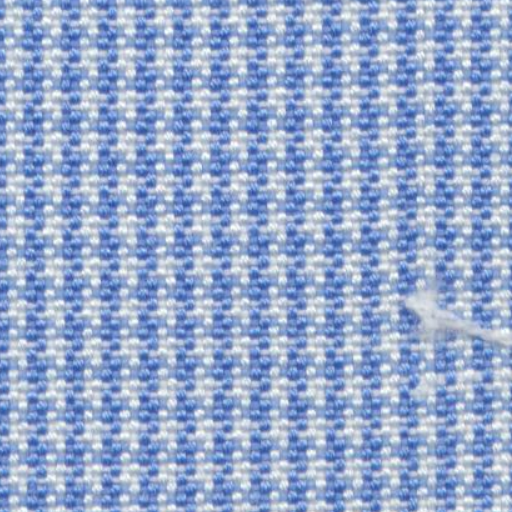DuanSha: (376, 272, 505, 379)
